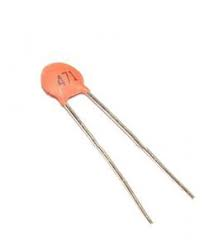ceramic capacitor: (21, 51, 114, 119)
